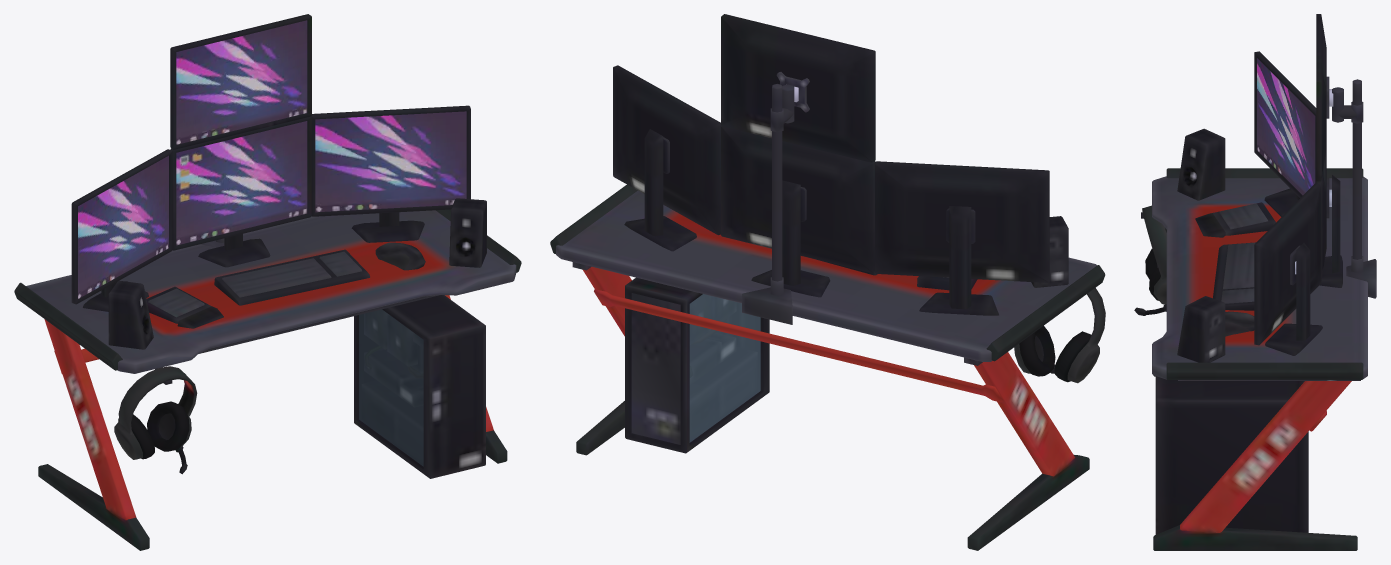
3 views of the same model, side by side, from view 1: azimuth 30°, elevation 25°; view 2: azimuth 150°, elevation 25°; view 3: azimuth 270°, elevation 25° (orthographic). The views are drawn at different scales.
Size of the model in its own units: 19.5 by 18.84 by 9.98.
Materials: 3 (2 with a texture image).
